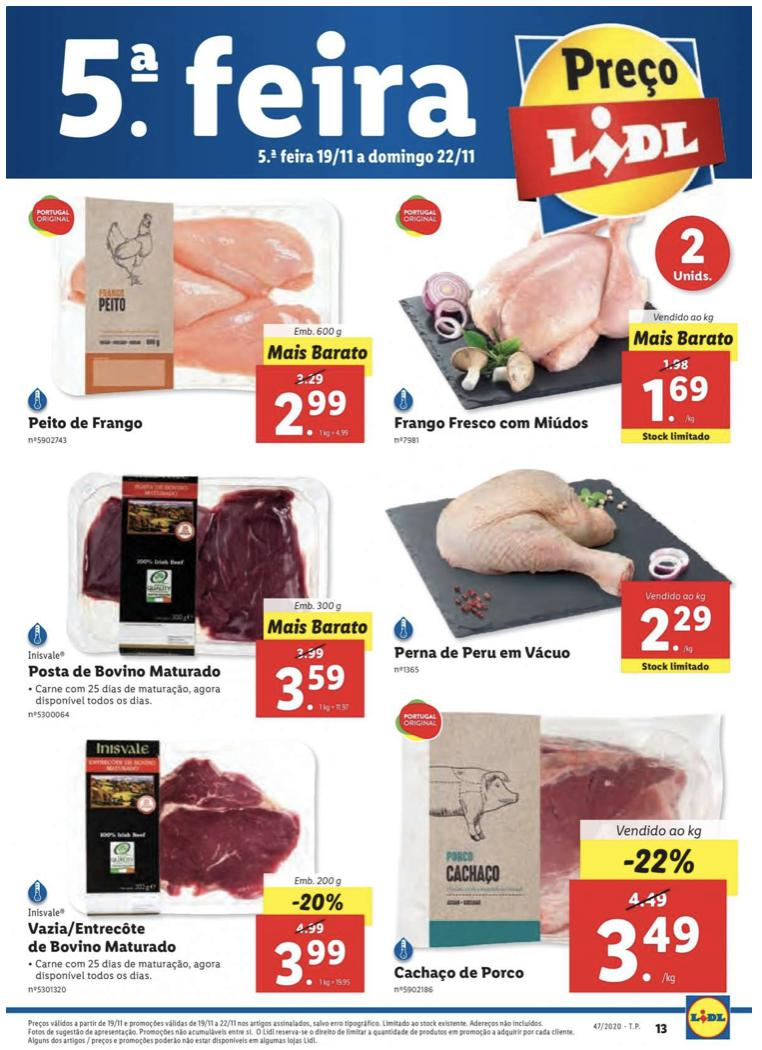name: (23, 917, 181, 955), (388, 413, 597, 435), (392, 640, 573, 665), (27, 660, 226, 682), (25, 414, 148, 434), (392, 966, 531, 982)
price: (588, 907, 712, 985), (264, 382, 353, 443), (271, 663, 349, 717), (642, 372, 713, 426), (274, 938, 351, 987), (642, 604, 714, 656)
product: (382, 686, 757, 1003), (14, 443, 379, 727), (12, 725, 378, 1005), (384, 190, 742, 468), (14, 192, 373, 443), (382, 468, 742, 686)
promotion: (617, 843, 703, 877), (288, 889, 347, 913)
